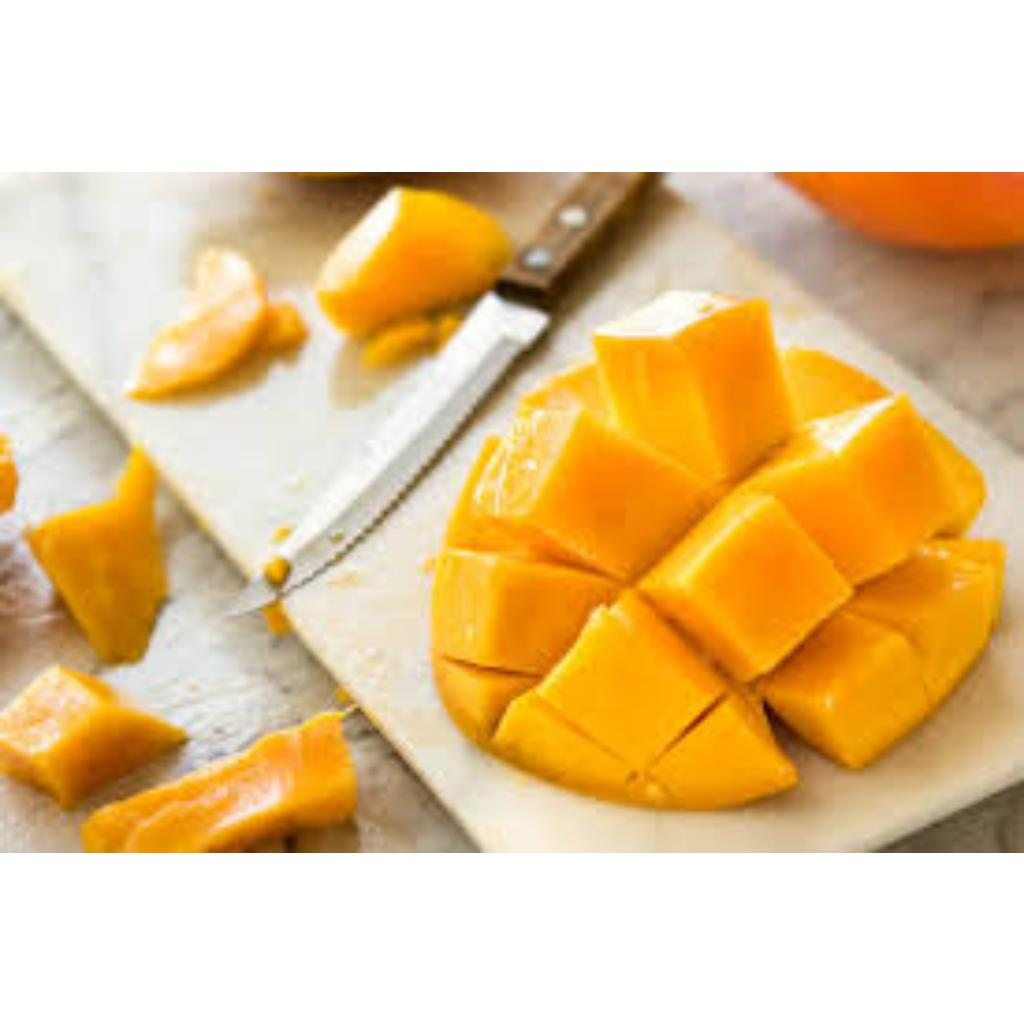mango: (432, 301, 994, 811)
